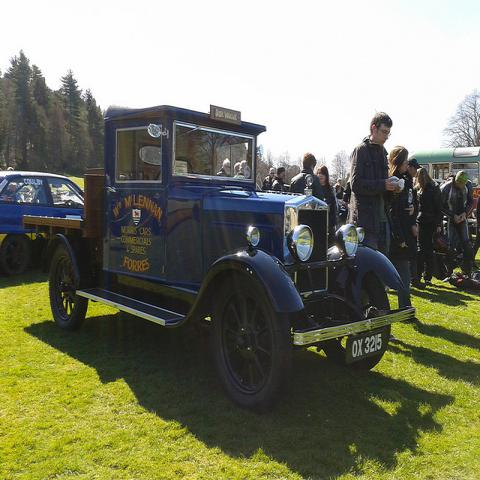bus: (410, 145, 480, 219)
car: (1, 170, 84, 278)
truck: (21, 101, 418, 412)
